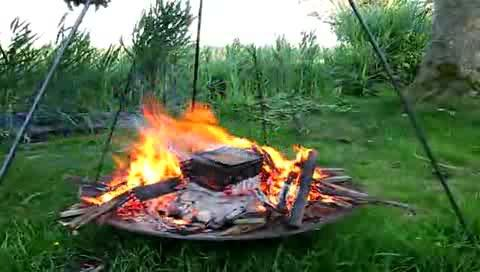fire: (126, 112, 304, 188)
